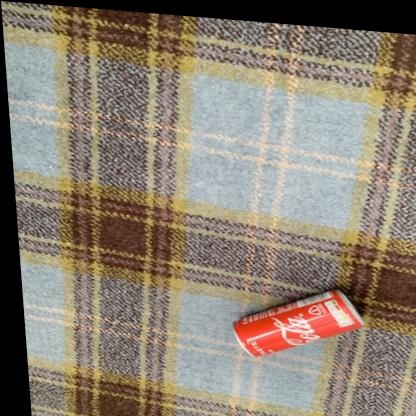trash: (233, 290, 363, 356)
